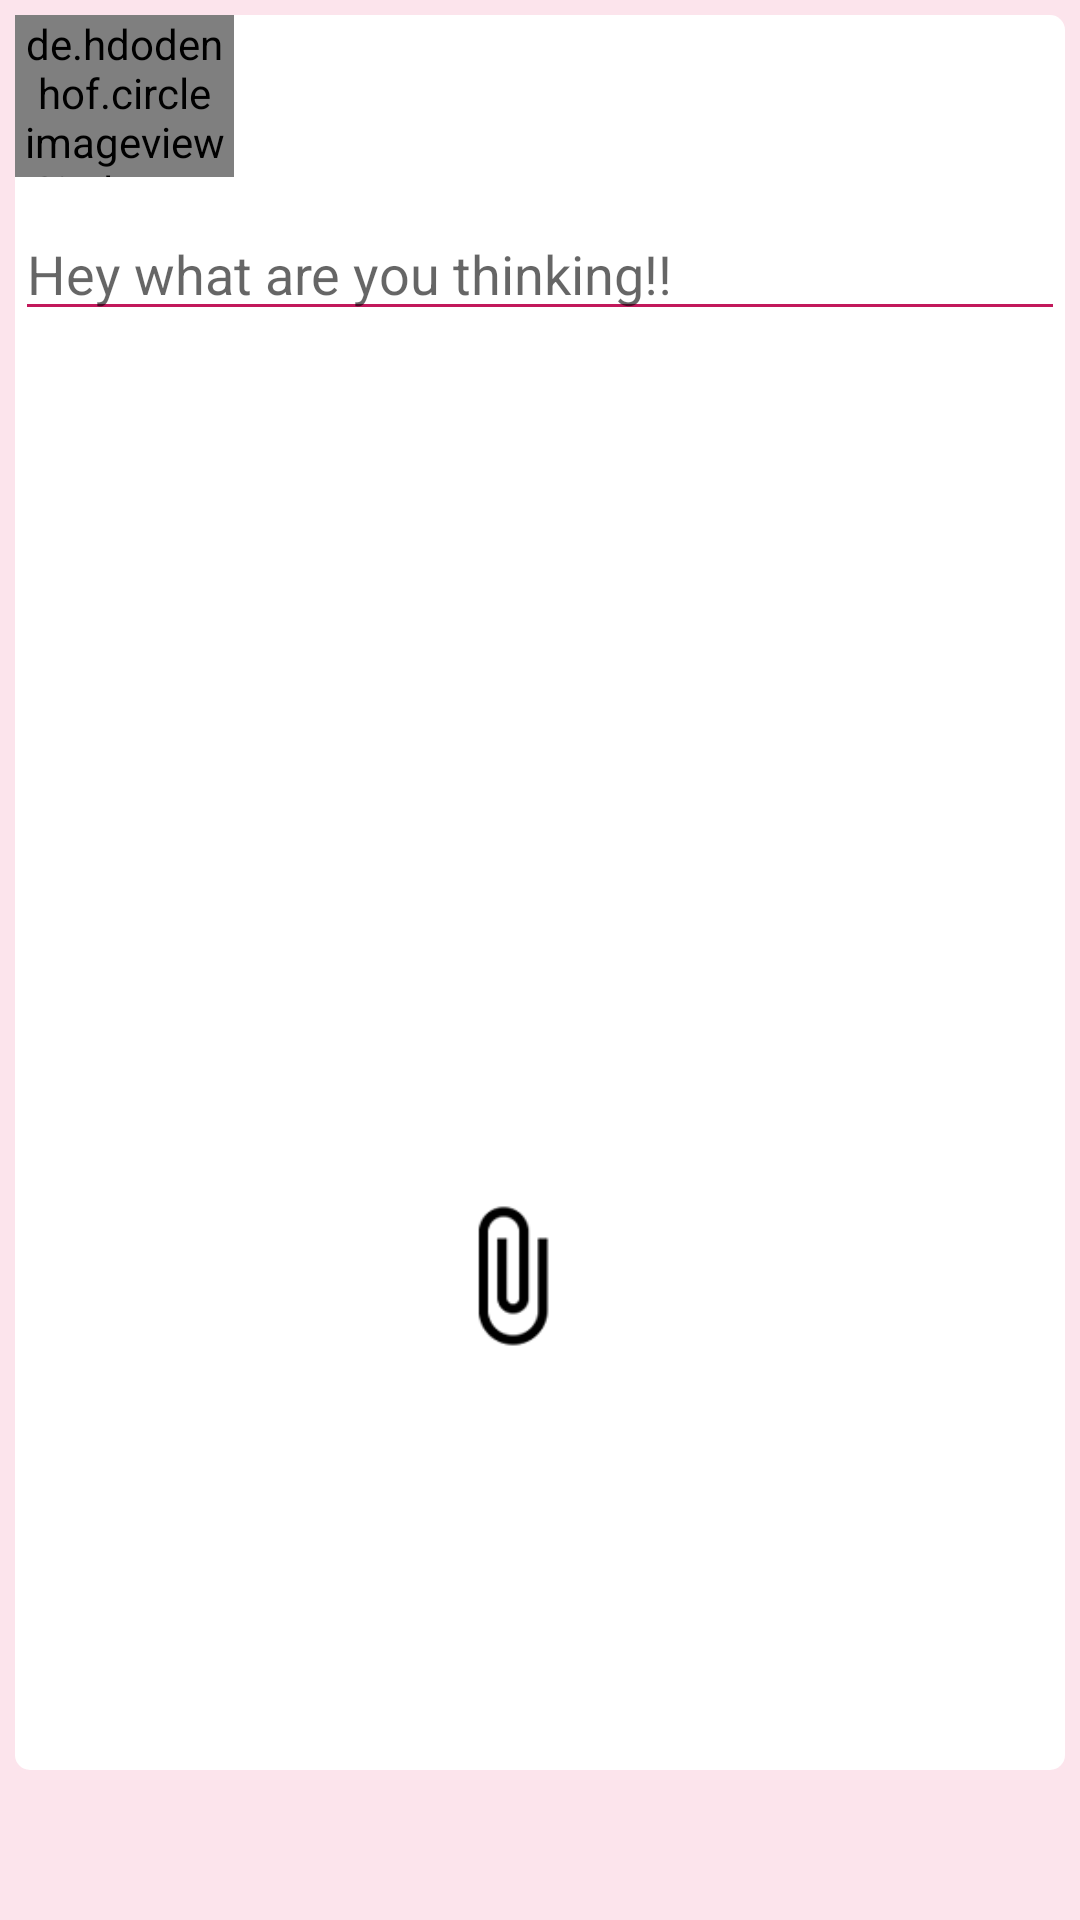

Screen size 1080w x 1920h. Icon name, then its center in pixels as [x,y]:
attach: [513,1276]
